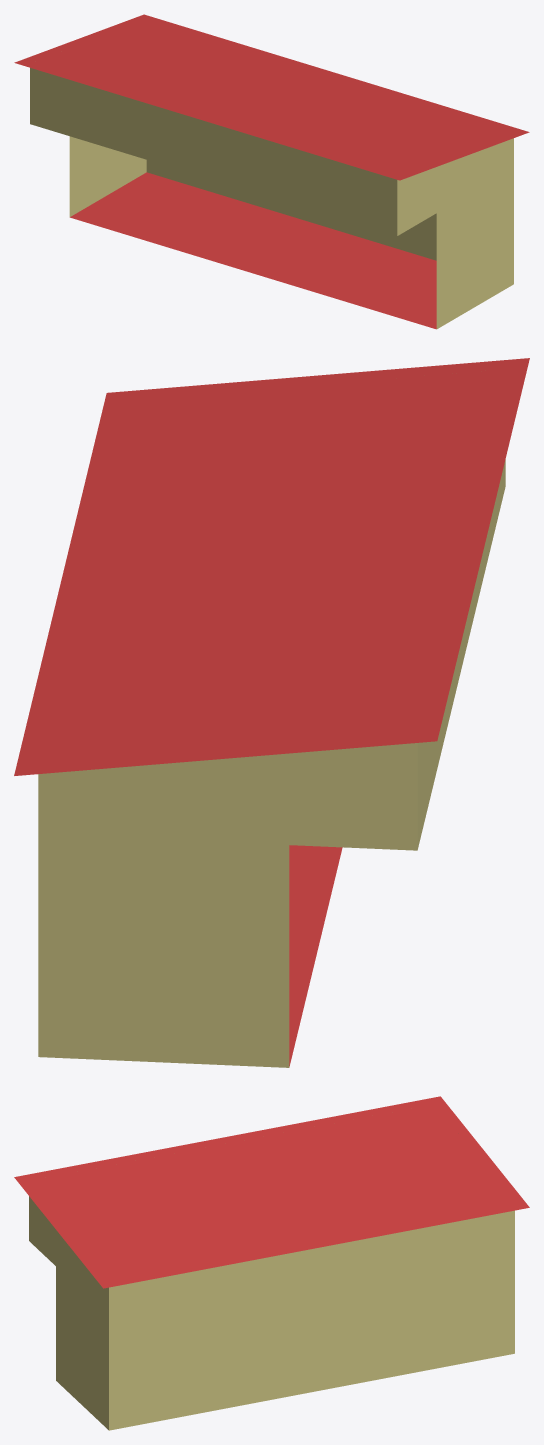
The picture shows the model from 3 angles, top to bottom: view 1: azimuth 30°, elevation 25°; view 2: azimuth 150°, elevation 25°; view 3: azimuth 270°, elevation 25°; orthographic projection. The views are drawn at different scales.
Bounding box in the file's own units: 25.85 × 34.15 × 12.83.
